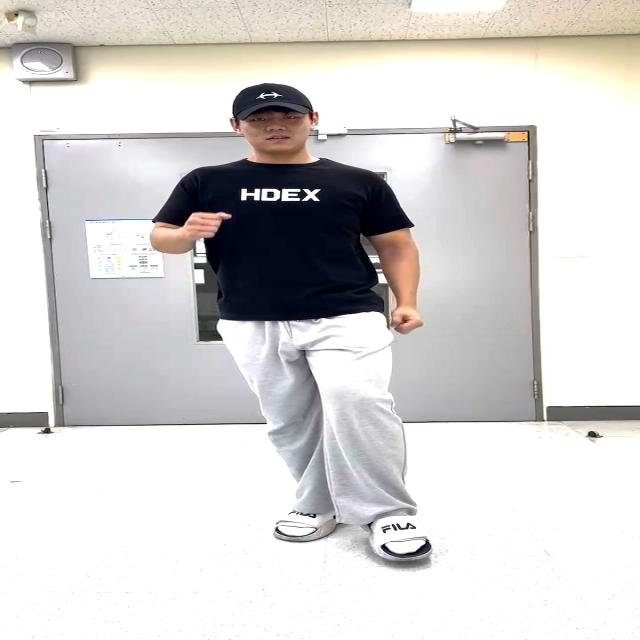leg: (307, 339, 481, 570)
